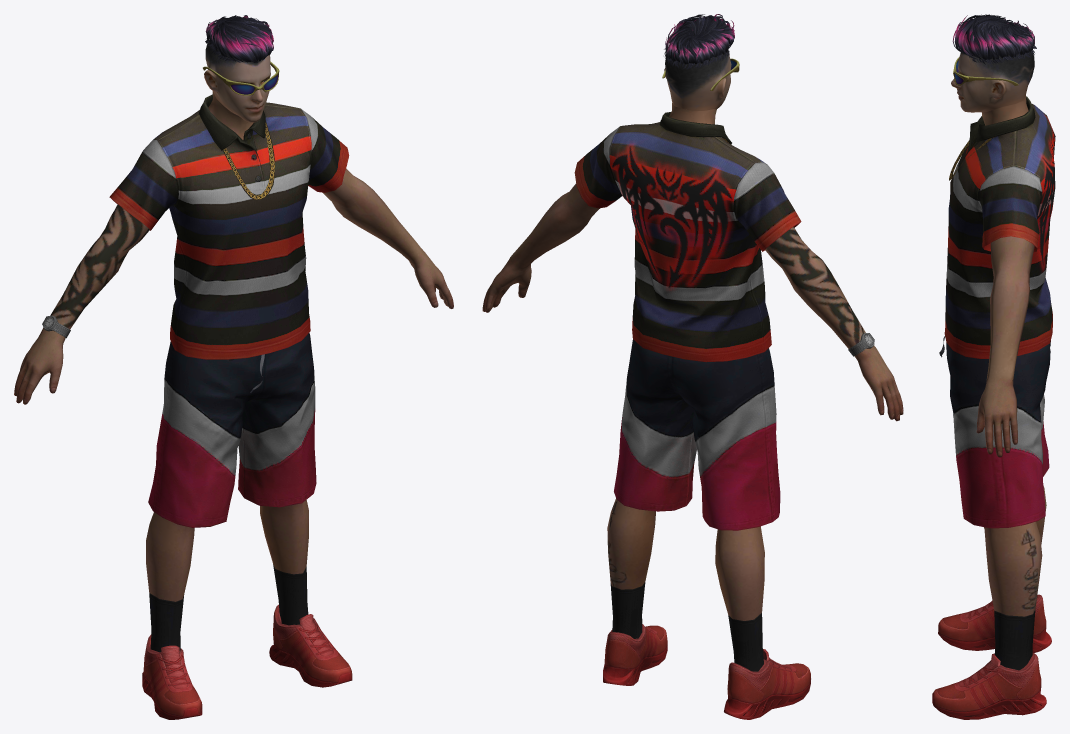
File: glasship.fbx
3 renders of one model, left to right at view 1: azimuth 30°, elevation 25°; view 2: azimuth 150°, elevation 25°; view 3: azimuth 270°, elevation 25°, orthographic.
Parts seen in each view (by area): view 1: Object_5, Object_4, Object_2, Object_3, Object_7; view 2: Object_5, Object_4, Object_2, Object_3, Object_7; view 3: Object_5, Object_2, Object_4, Object_3, Object_7, Object_6.
Boxes of the visible parts, box(x1,y1,x2,y2) form: Object_5: box(42, 94, 349, 359); Object_4: box(148, 332, 316, 652); Object_2: box(14, 43, 453, 601); Object_3: box(142, 604, 352, 719); Object_7: box(205, 15, 273, 62); Object_5: box(574, 112, 874, 362); Object_4: box(610, 339, 780, 671); Object_2: box(482, 31, 903, 620); Object_3: box(603, 624, 810, 719); Object_7: box(664, 14, 734, 69); Object_5: box(944, 96, 1055, 358); Object_2: box(951, 30, 1046, 616); Object_4: box(939, 336, 1050, 670); Object_3: box(932, 594, 1051, 719); Object_7: box(952, 14, 1036, 64); Object_6: box(953, 57, 1018, 85).
Bounding box in the file's own units: 488 × 733 × 124.
7 materials, 7 textured.
